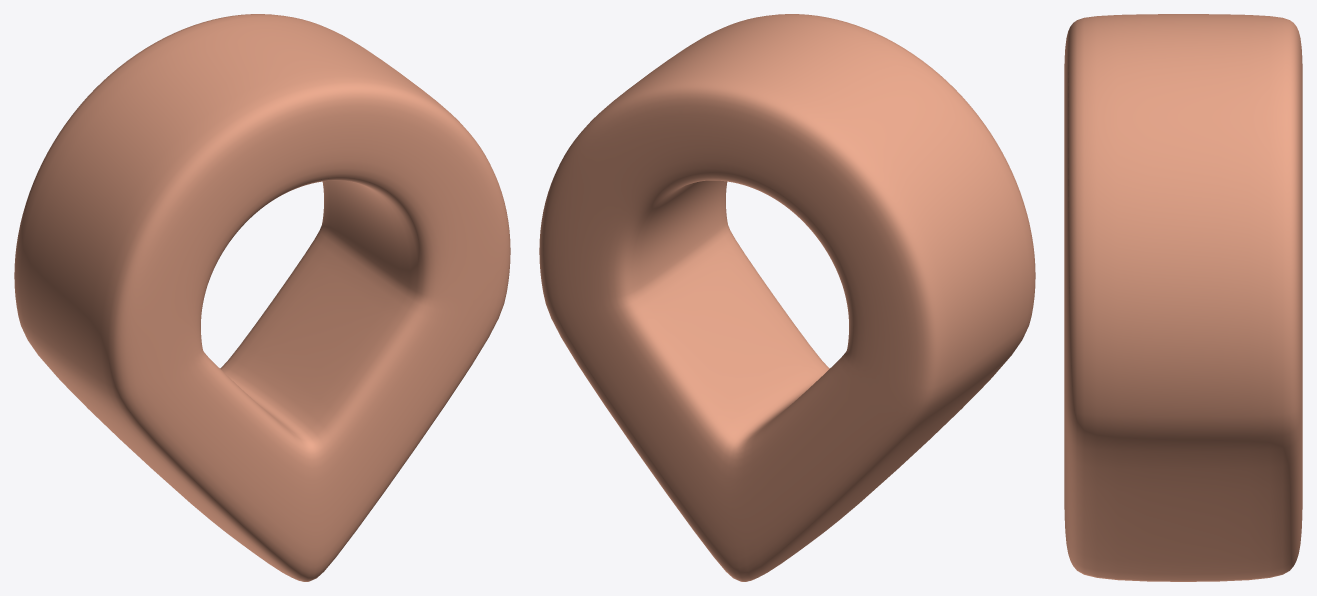
Rendered from Icon.glb.
3 views of the same model, side by side, from view 1: azimuth 30°, elevation 25°; view 2: azimuth 150°, elevation 25°; view 3: azimuth 270°, elevation 25° (orthographic). The views are drawn at different scales.
Visible parts, largest first — view 1: Circle; view 2: Circle; view 3: Circle.
Boxes of the visible parts, x1=… form: Circle: x1=14, y1=14, x2=510, y2=581; Circle: x1=539, y1=14, x2=1035, y2=581; Circle: x1=1064, y1=14, x2=1302, y2=581.
Bounding box in the file's own units: 1.98 × 2.35 × 0.9346.
